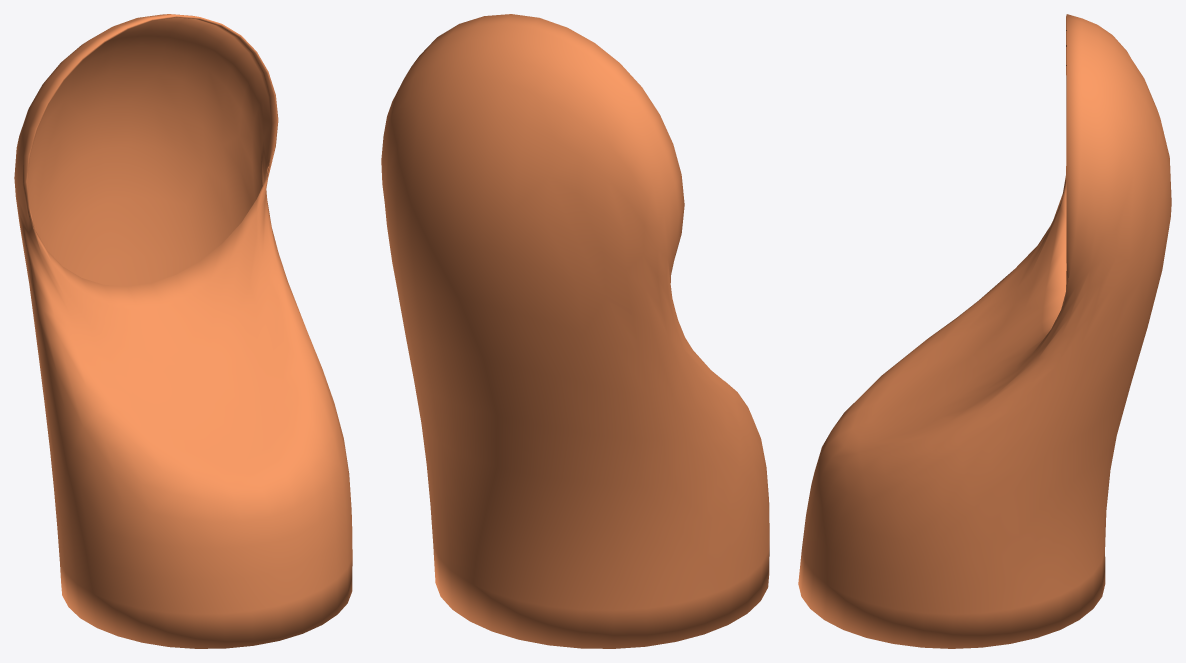
Rendered from arm_seg_last.dae.
The picture shows the model from 3 angles, left to right: view 1: azimuth 30°, elevation 25°; view 2: azimuth 150°, elevation 25°; view 3: azimuth 270°, elevation 25°; orthographic projection. The views are drawn at different scales.
Parts seen in each view (by area): view 1: arm_seg_last; view 2: arm_seg_last; view 3: arm_seg_last.
Part boxes in pixels (left/top/right/bottom): arm_seg_last: left=14, top=14, right=352, bottom=648; arm_seg_last: left=381, top=14, right=769, bottom=648; arm_seg_last: left=798, top=14, right=1171, bottom=648.
Bounding box in the file's own units: 0.1253 × 0.1473 × 0.2422.
